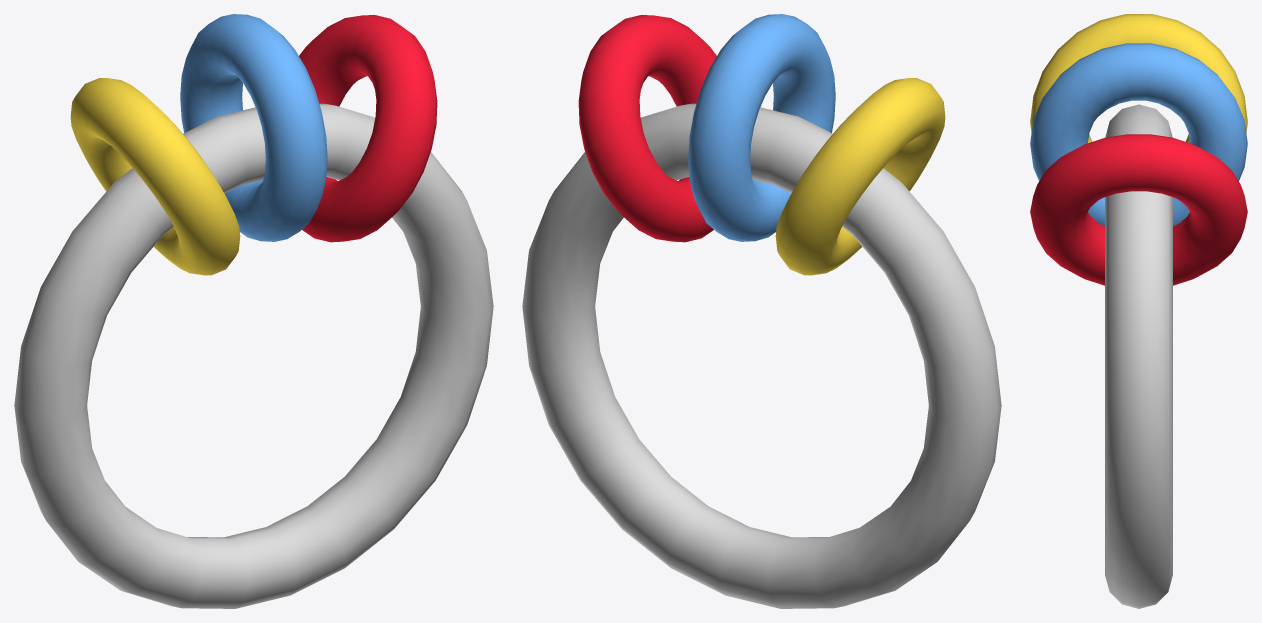
Rendered from Toy_M_3.fbx.
3 views of the same model, side by side, from view 1: azimuth 30°, elevation 25°; view 2: azimuth 150°, elevation 25°; view 3: azimuth 270°, elevation 25° (orthographic). The views are drawn at different scales.
Visible parts, largest first — view 1: Toy_M_3; view 2: Toy_M_3; view 3: Toy_M_3.
Part boxes in pixels (x1,y1,x2,y2): Toy_M_3: (14,14,493,608); Toy_M_3: (522,14,1001,608); Toy_M_3: (1030,14,1247,608).
Bounding box in the file's own units: 35.83 × 42.07 × 15.42.
1 material, 1 textured.
